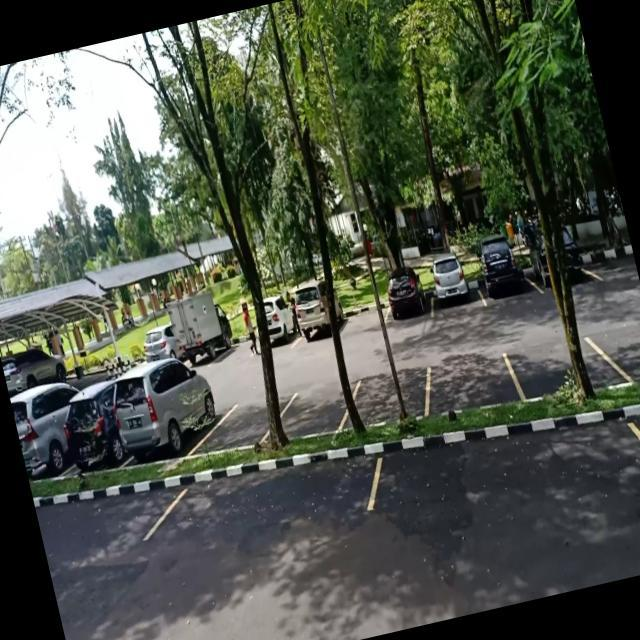empty: (365, 383, 640, 530), (154, 446, 389, 566), (420, 337, 520, 422), (508, 324, 613, 404), (345, 355, 434, 435), (276, 377, 352, 444), (205, 390, 276, 454), (335, 294, 393, 339)
occupied: (107, 361, 222, 468), (53, 382, 126, 476), (420, 250, 484, 318), (472, 242, 532, 304), (378, 264, 434, 328)
